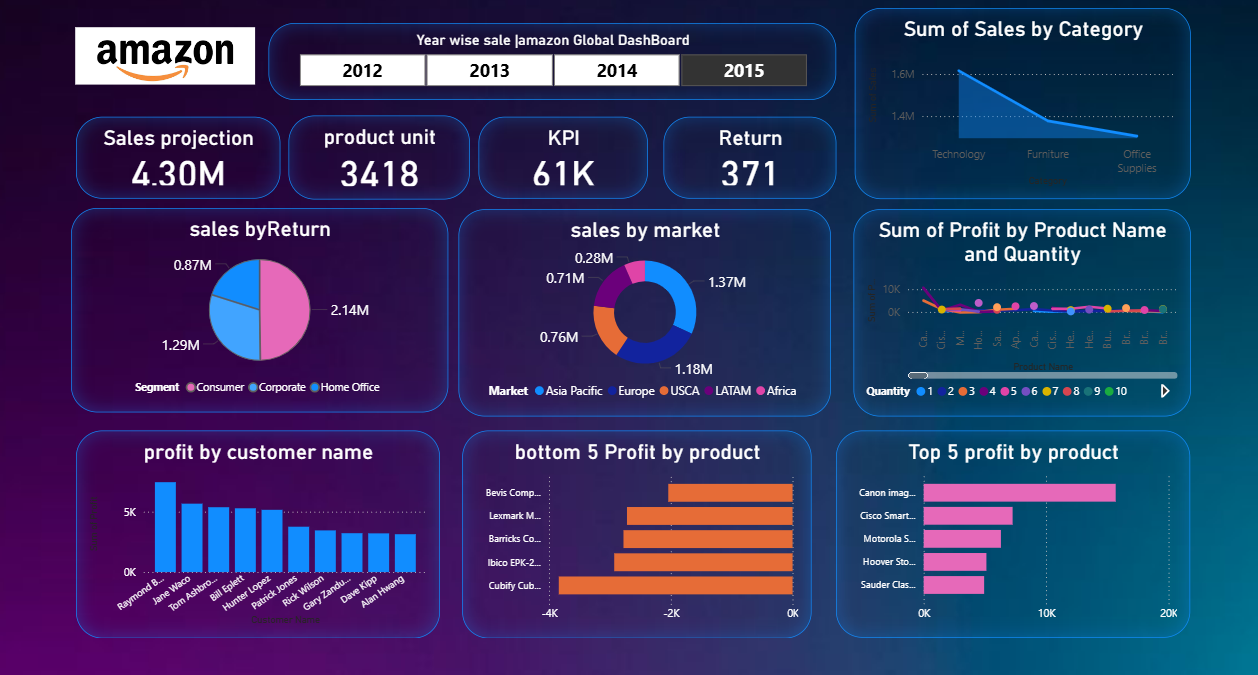

The page's visual inventory and layout, read from the dashboard file:
{"tool":"powerbi","page":{"name":"Page 1","canvas":[1280,720],"ordinal":0},"visuals":[{"type":"slicer","title":"Year wise sale |amazon Global DashBoard","fields":{"Values":["Orders.Year"]},"box":[225,17.8,649.1,87.8],"z":0},{"type":"card","title":"product unit","fields":{"Values":["Orders.Product Name"]},"box":[248.4,123.5,207.2,96.1],"z":1000},{"type":"image","box":[0,17.8,215.4,75.5],"z":2000},{"type":"card","title":"Sales projection","fields":{"Values":["Orders.Sales"]},"box":[5.5,124.9,233.3,93.3],"z":3000},{"type":"card","title":"KPI","fields":{"Values":["Orders.Quantity"]},"box":[465.2,124.9,193.5,93.3],"z":4000},{"type":"card","title":"Return","fields":{"Values":["Orders.Ship Date"]},"box":[676.5,124.9,197.6,93.3],"z":5000},{"type":"pieChart","title":"sales byReturn","fields":{"Category":["Orders.Segment"],"Y":["Orders.Sales"]},"box":[0,229.2,430.9,233.3],"z":6000},{"type":"donutChart","title":"sales by market","fields":{"Category":["Orders.Market"],"Y":["Orders.Sales"]},"box":[442.9,229.4,425.8,236.8],"z":7000},{"type":"columnChart","title":"profit by customer name","fields":{"Category":["Orders.Customer Name"],"Y":["Orders.Profit"]},"box":[5.5,483,415.8,237.4],"z":8000},{"type":"clusteredBarChart","title":"bottom 5 Profit by product","fields":{"Y":["Orders.Profit"],"Category":["Orders.Product Name"]},"box":[447.3,483,399.3,237.4],"z":9000},{"type":"clusteredBarChart","title":"Top 5 profit by product","fields":{"Y":["Orders.Profit"],"Category":["Orders.Product Name"]},"box":[873.6,483.4,404.9,236.8],"z":10000},{"type":"lineChart","fields":{"Category":["Orders.Product Name"],"Y":["Orders.Profit"],"Series":["Orders.Quantity"]},"box":[894.5,229.4,385.3,236.8],"z":11000},{"type":"areaChart","fields":{"Category":["Orders.Category"],"Y":["Orders.Sales"]},"box":[895.7,0,384.1,218.4],"z":12000}]}

Visuals, with their boxes on the page's 1280x720 design canvas (x1, y1, x2, y2). These are canvas units, not pixel positions in the 1258x675 screenshot, which may show the page scaled, cropped or inside an application window:
"Year wise sale |amazon Global DashBoard" slicer: x1=225, y1=18, x2=874, y2=106
"product unit" card: x1=248, y1=124, x2=456, y2=220
image: x1=0, y1=18, x2=215, y2=93
"Sales projection" card: x1=6, y1=125, x2=239, y2=218
"KPI" card: x1=465, y1=125, x2=659, y2=218
"Return" card: x1=676, y1=125, x2=874, y2=218
"sales byReturn" pieChart: x1=0, y1=229, x2=431, y2=462
"sales by market" donutChart: x1=443, y1=229, x2=869, y2=466
"profit by customer name" columnChart: x1=6, y1=483, x2=421, y2=720
"bottom 5 Profit by product" clusteredBarChart: x1=447, y1=483, x2=847, y2=720
"Top 5 profit by product" clusteredBarChart: x1=874, y1=483, x2=1278, y2=720
lineChart - Orders.Product Name x Orders.Profit: x1=894, y1=229, x2=1280, y2=466
areaChart - Orders.Category x Orders.Sales: x1=896, y1=0, x2=1280, y2=218
